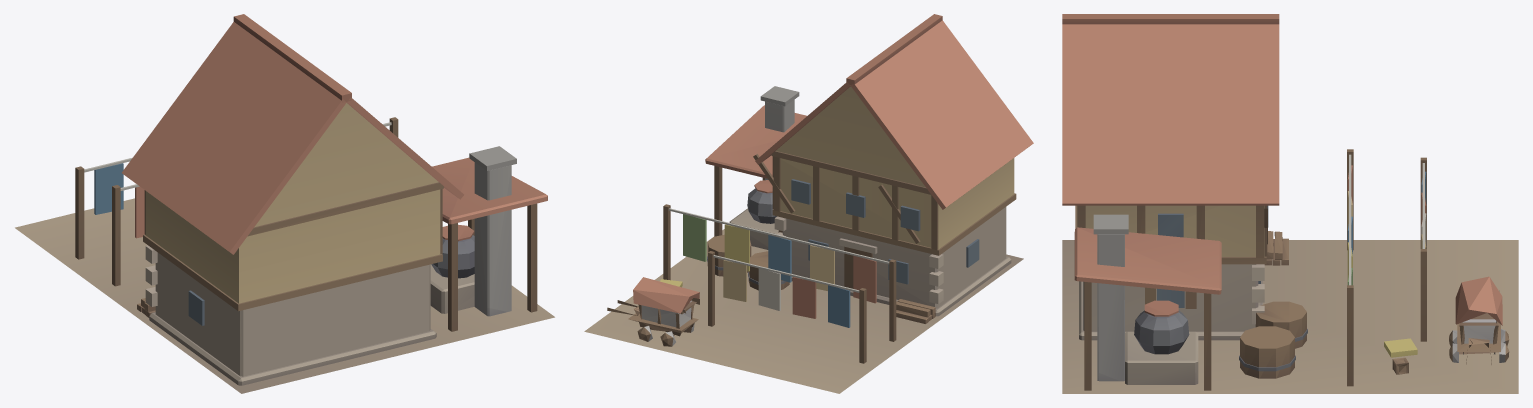
File: dyer.glb
The picture shows the model from 3 angles, left to right: view 1: azimuth 30°, elevation 25°; view 2: azimuth 150°, elevation 25°; view 3: azimuth 270°, elevation 25°; orthographic projection. The views are drawn at different scales.
Visible parts, largest first — view 1: dyer; view 2: dyer; view 3: dyer.
Part boxes in pixels (<box>): dyer: <box>15,14,554,393</box>; dyer: <box>584,14,1033,393</box>; dyer: <box>1062,14,1518,393</box>.
Size of the model in its own units: 4.11 by 3.32 by 4.96.
